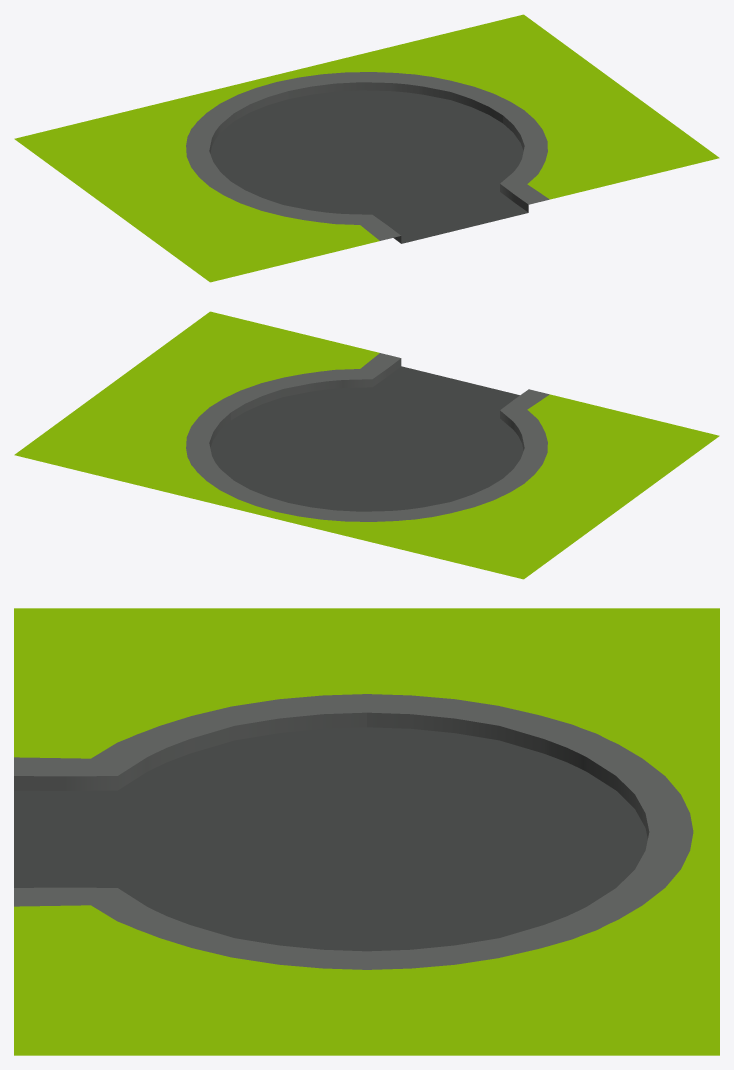
Rendered from road_cul.fbx.
The picture shows the model from 3 angles, top to bottom: view 1: azimuth 30°, elevation 25°; view 2: azimuth 150°, elevation 25°; view 3: azimuth 270°, elevation 25°; orthographic projection. The views are drawn at different scales.
Visible parts, largest first — view 1: road_cul; view 2: road_cul; view 3: road_cul.
Boxes of the visible parts, left/top/right/bottom form: road_cul: left=14, top=14, right=719, bottom=282; road_cul: left=14, top=311, right=719, bottom=579; road_cul: left=14, top=608, right=719, bottom=1055.
Bounding box in the file's own units: 2400 × 36.59 × 1600.
